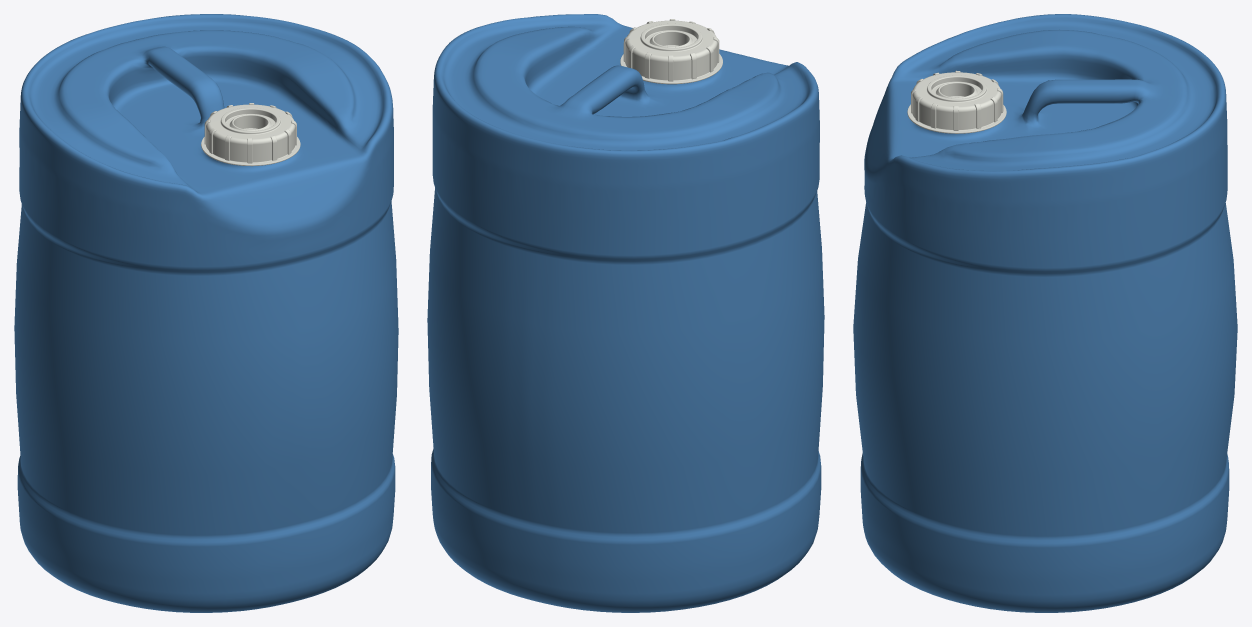
File: pail_closedHead_blue_a01.glb
3 renders of one model, left to right at view 1: azimuth 30°, elevation 25°; view 2: azimuth 150°, elevation 25°; view 3: azimuth 270°, elevation 25°, orthographic. The views are drawn at different scales.
Bounding box in the file's own units: 0.2628 × 0.347 × 0.2634.
